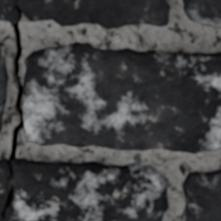brick: (22, 43, 220, 152), (182, 169, 220, 220), (183, 0, 220, 25), (0, 44, 6, 101), (0, 105, 3, 127)
broken_brick: (0, 157, 168, 220), (0, 0, 170, 28), (0, 159, 6, 208)
crack: (0, 2, 27, 218), (0, 99, 5, 106)
